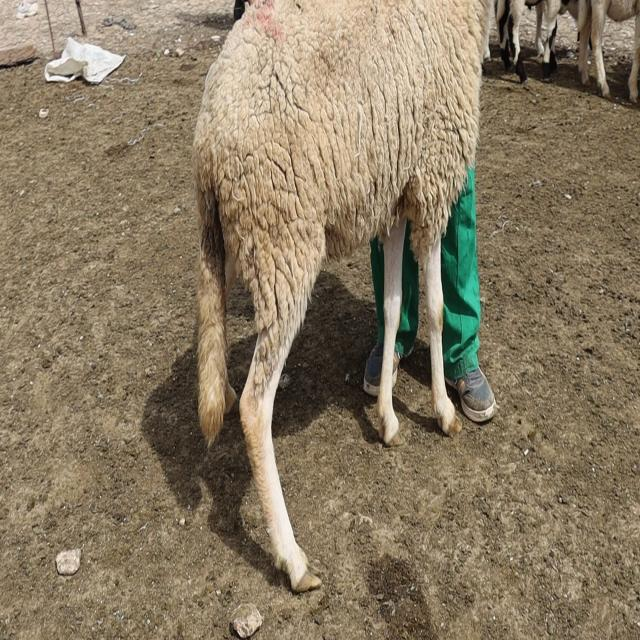Score_1: (193, 0, 492, 591)
